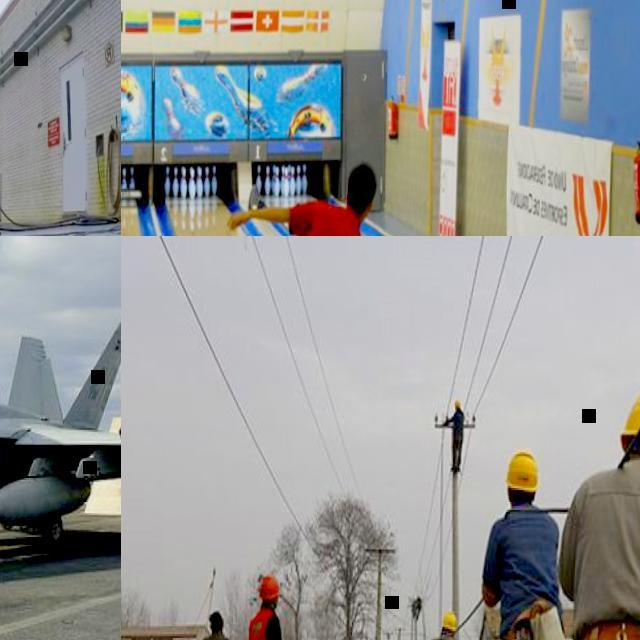helmet: (617, 389, 640, 465), (503, 448, 542, 492), (257, 574, 282, 600), (440, 612, 457, 634), (453, 400, 461, 410)
vest: (246, 610, 274, 640)
